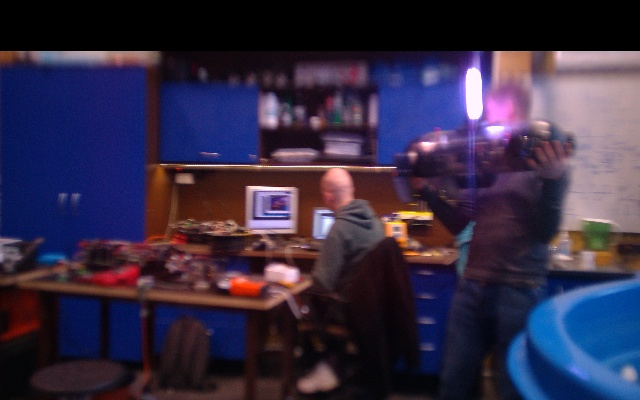white: (464, 66, 483, 121)
